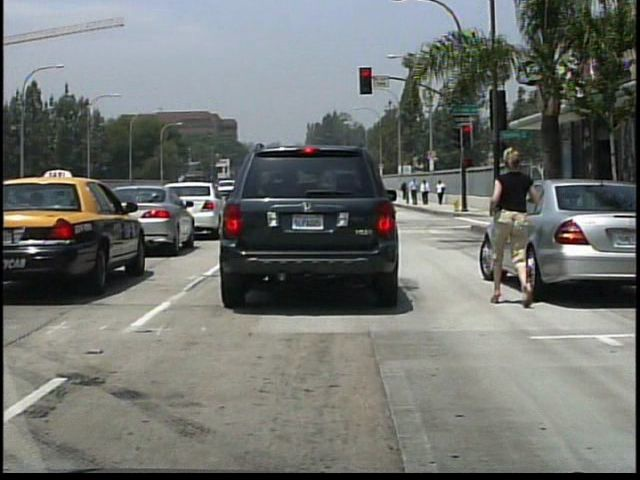person: (494, 133, 544, 313), (436, 178, 447, 205), (411, 178, 421, 206), (422, 178, 431, 206), (401, 180, 407, 202)
